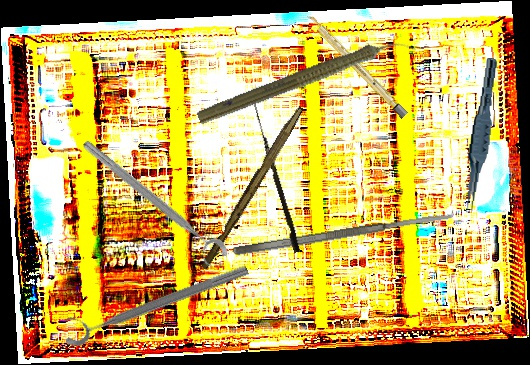Fixation Ring: (71, 135, 233, 273), (57, 250, 252, 350)
Handpiece: (194, 26, 418, 133)
Hook Surgical: (246, 103, 304, 254)
Scalpel Handle: (199, 102, 305, 273), (304, 12, 409, 119)
Spatula Surgical: (231, 210, 456, 258)
Tissue Forceps: (461, 56, 499, 213)
